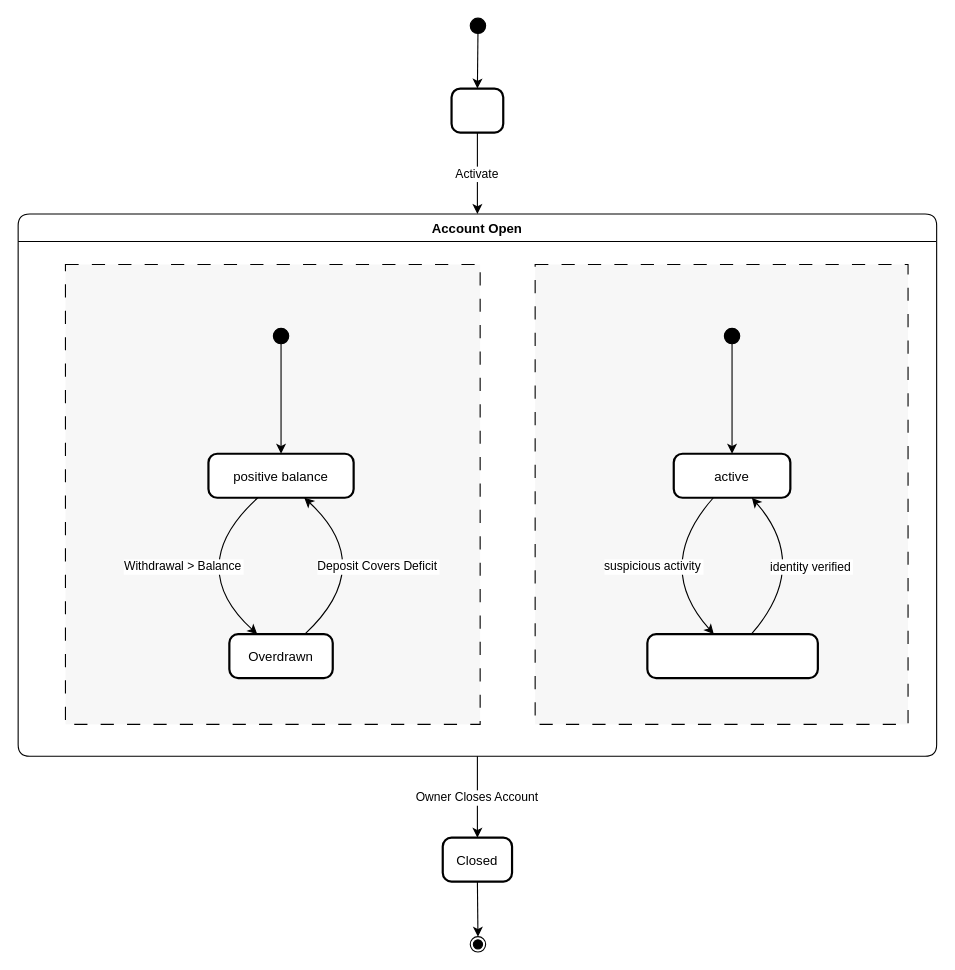
The diagram is 955 pixels wide and 970 high, and some of its shapes have lost their labels. Here are the shapes that lost their labels. From the top down, the centre of each, then its label:
At (477,110): "New".
At (732,655): "frozen".
